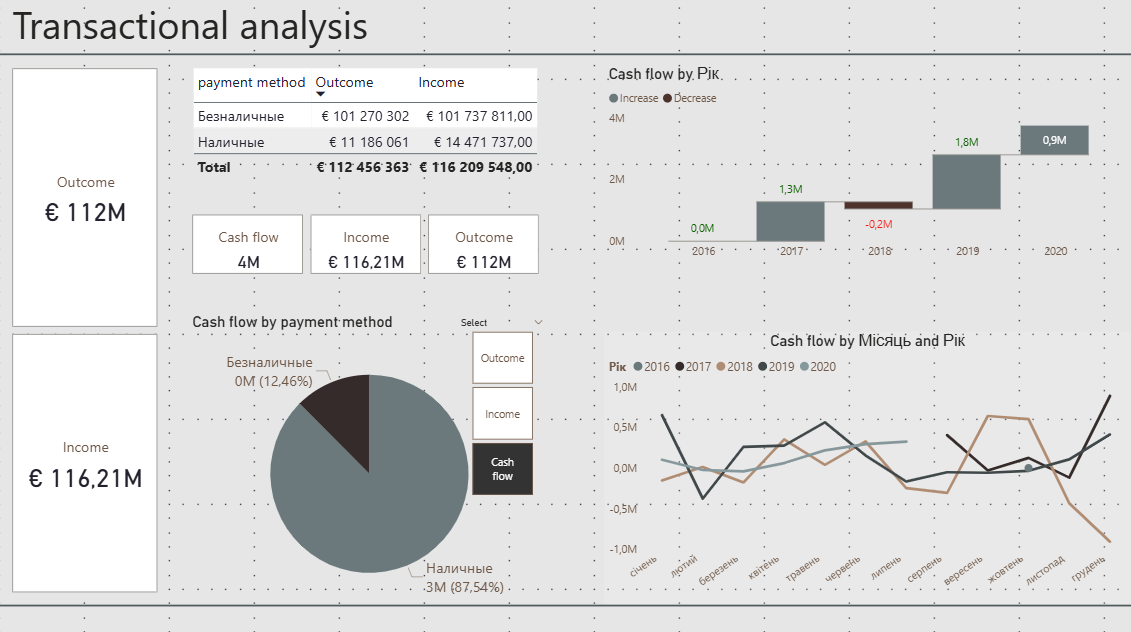

What the dashboard file says about the page in this screenshot:
{"tool":"powerbi","page":{"name":"Страница 1","canvas":[1280,720],"ordinal":0},"visuals":[{"type":"textbox","box":[10.9,0,997.7,98.9],"z":0},{"type":"cardVisual","fields":{"Data":["_m.Costs","_m.Income"]},"box":[10.9,79.6,174.9,602],"z":1000},{"type":"tableEx","fields":{"Values":["Transactions.ВидДенежныхСредств","_m.Costs","_m.Income"]},"box":[214.7,79.6,410.2,139.9],"z":2000},{"type":"pieChart","fields":{"Y":["_m.Cash flow"],"Category":["Transactions.ВидДенежныхСредств"]},"box":[214.7,359.5,410.2,345],"z":3000},{"type":"slicer","fields":{"Values":["Select.Select"]},"box":[510.3,359.5,118.2,212.3],"z":4000},{"type":"waterfallChart","fields":{"Y":["_m.Cash flow"],"Category":["Calendar.Date.Variation.Ієрархія дат.Рік","Calendar.Date.Variation.Ієрархія дат.Квартал","Calendar.Date.Variation.Ієрархія дат.Місяць","Calendar.Date.Variation.Ієрархія дат.День"]},"box":[685.3,79.6,594.8,230.4],"z":5000},{"type":"lineChart","fields":{"Y":["_m.Cash flow"],"Category":["Calendar.Date.Variation.Ієрархія дат.Місяць"],"Series":["Calendar.Date.Variation.Ієрархія дат.Рік"]},"box":[685.3,381.2,594.8,310.1],"z":6000},{"type":"shape","box":[0,672,1280,37.4],"z":7000},{"type":"shape","box":[0,49.5,1280,37.4],"z":8000},{"type":"cardVisual","fields":{"Data":["_m.Cash flow","_m.Income","_m.Outcome"]},"box":[214.7,243.7,401.7,77.2],"z":8001}]}

Visuals, with their boxes in screenshot pixels (x1, y1, x2, y2), scaled from the page's 1280x720 canvas onto the 1131x632 screenshot:
textbox: box(10, 0, 891, 87)
cardVisual - _m.Costs x _m.Income: box(10, 70, 164, 598)
tableEx - Transactions.ВидДенежныхСредств x _m.Costs: box(190, 70, 552, 193)
pieChart - _m.Cash flow x Transactions.ВидДенежныхСредств: box(190, 316, 552, 618)
slicer - Select.Select: box(451, 316, 555, 502)
waterfallChart - _m.Cash flow x Calendar.Date.Variation.Ієрархія дат.Рік: box(606, 70, 1130, 272)
lineChart - _m.Cash flow x Calendar.Date.Variation.Ієрархія дат.Місяць: box(606, 335, 1130, 607)
shape: box(0, 590, 1130, 623)
shape: box(0, 43, 1130, 76)
cardVisual - _m.Cash flow x _m.Income: box(190, 214, 545, 282)
